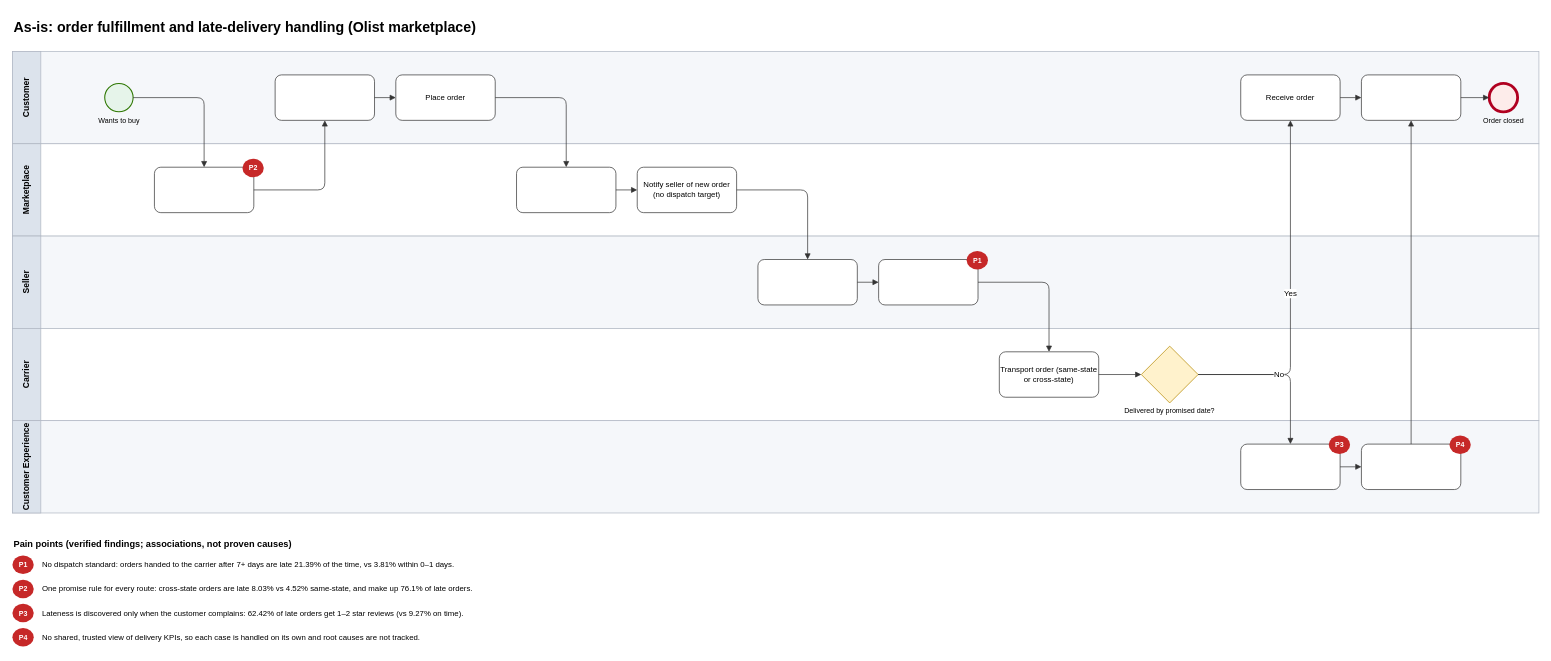
Some shapes in this 1551 by 661 pixel diagram are drawn without their labels. Here are the shapes that lost their labels. From the top down, the box of each, then its label:
(274, 74, 375, 120): View product and promised date
(1361, 74, 1461, 120): Leave review
(154, 166, 254, 213): Calculate promised date (same rule for every route)
(516, 166, 616, 213): Approve payment
(757, 259, 857, 305): Pick and pack order
(878, 259, 978, 305): Hand off to carrier when ready
(1240, 443, 1340, 490): Customer complains; CX finds out it is late
(1361, 443, 1461, 490): Handle complaint case by case
